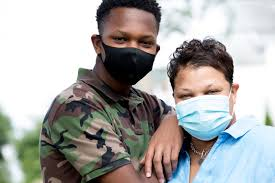with_mask: (170, 56, 238, 138), (97, 9, 159, 83)
